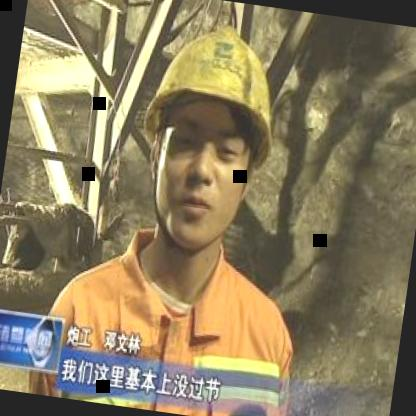helmet: (107, 2, 302, 279)
